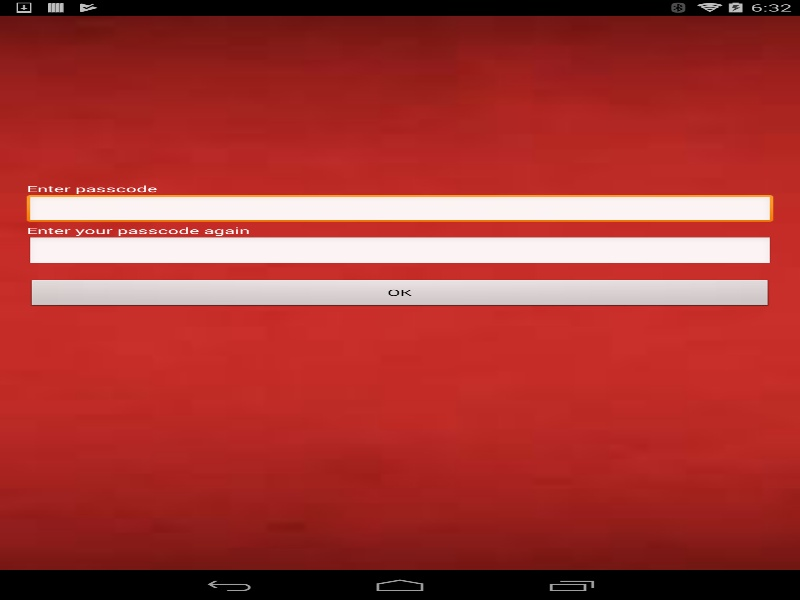Button: (26, 279, 773, 309)
Input: (26, 194, 773, 224), (26, 236, 773, 266)
